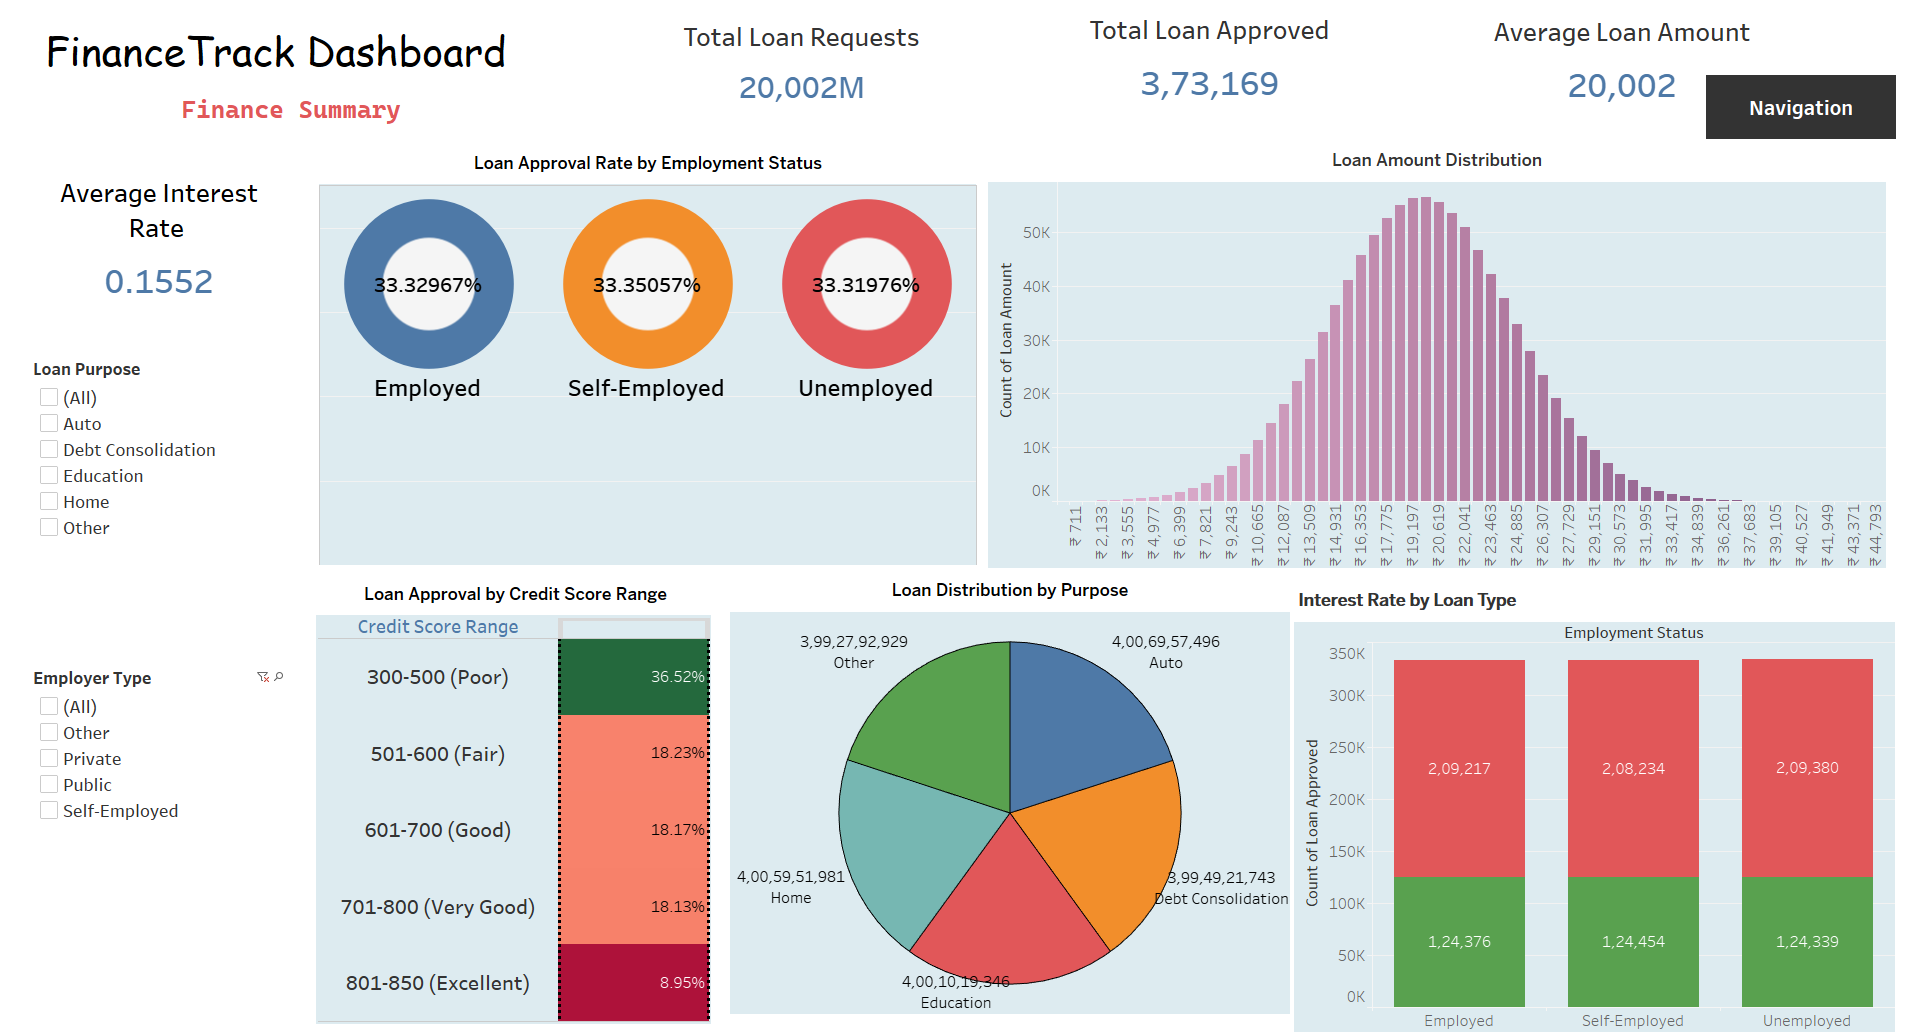

What the dashboard file says about the page in this screenshot:
{"tool":"tableau","page":{"name":"Overview ","canvas":[1000,1000],"units":"permille","ordinal":1},"visuals":[{"type":"worksheet","title":"Total Loan Approved","mark":"Automatic","box":[554.5,9.4,157.9,119.9]},{"type":"worksheet","title":"Average Loan Amount","mark":"Automatic","box":[758.8,11.8,179.2,111.6]},{"type":"text","box":[25.7,16.4,297,65.8]},{"type":"worksheet","title":"Total Loan Requests","mark":"Automatic","box":[342.7,16.4,156.6,108.1]},{"type":"dashboard-object","box":[892,74,99,61.1]},{"type":"text","box":[96.5,89.3,146,35.2]},{"type":"worksheet","title":"chart4","mark":"Bar","rows":["LoanAmount"],"cols":["Loan Amount (bin)"],"box":[518.4,142.2,467.7,404.2]},{"type":"worksheet","title":"chart 1","mark":"Automatic","rows":["LoanApproved","LoanApproved"],"cols":["EmploymentStatus"],"box":[169.8,144.5,342.7,399.5]},{"type":"worksheet","title":"Average Interest Rate ","mark":"Automatic","box":[18.8,165.7,135.3,162.2]},{"type":"filter","title":"filter","param":"[federated.1yazxop0s0wtwq197ndzq12i0eiv].[none:LoanPurpose:nk]","box":[20.7,344.3,134.7,263.2]},{"type":"worksheet","title":"chart 3","mark":"Pie","box":[383.8,554.6,291.5,419.5]},{"type":"worksheet","title":"chart 2","mark":"Square","rows":["Calculation_715509448780226561"],"box":[168.4,558.2,206.4,425.4]},{"type":"worksheet","title":"Interest Rate by Loan Type","mark":"Automatic","rows":["LoanApproved"],"cols":["EmploymentStatus"],"box":[677.7,564,313.2,427.7]},{"type":"worksheet","title":"filter","mark":"Automatic","box":[67.7,581.7,22.6,2.4]},{"type":"filter","title":"filter","param":"[federated.1yazxop0s0wtwq197ndzq12i0eiv].[none:EmployerType:nk]","box":[20.7,640.4,132.8,277.3]}]}

Visuals, with their boxes on the dashboard's canvas, which has no fixed pixel size, in thousandths of its width and height (x1, y1, x2, y2). These are canvas units, not pixel positions in the 1907x1035 screenshot, which may show the page scaled, cropped or inside an application window:
"Total Loan Approved" worksheet: rect(554, 9, 712, 129)
"Average Loan Amount" worksheet: rect(759, 12, 938, 123)
text: rect(26, 16, 323, 82)
"Total Loan Requests" worksheet: rect(343, 16, 499, 124)
dashboard-object: rect(892, 74, 991, 135)
text: rect(96, 89, 242, 124)
"chart4" worksheet (Bar marks): rect(518, 142, 986, 546)
"chart 1" worksheet: rect(170, 144, 512, 544)
"Average Interest Rate " worksheet: rect(19, 166, 154, 328)
"filter" filter: rect(21, 344, 155, 608)
"chart 3" worksheet (Pie marks): rect(384, 555, 675, 974)
"chart 2" worksheet (Square marks): rect(168, 558, 375, 984)
"Interest Rate by Loan Type" worksheet: rect(678, 564, 991, 992)
"filter" worksheet: rect(68, 582, 90, 584)
"filter" filter: rect(21, 640, 154, 918)
